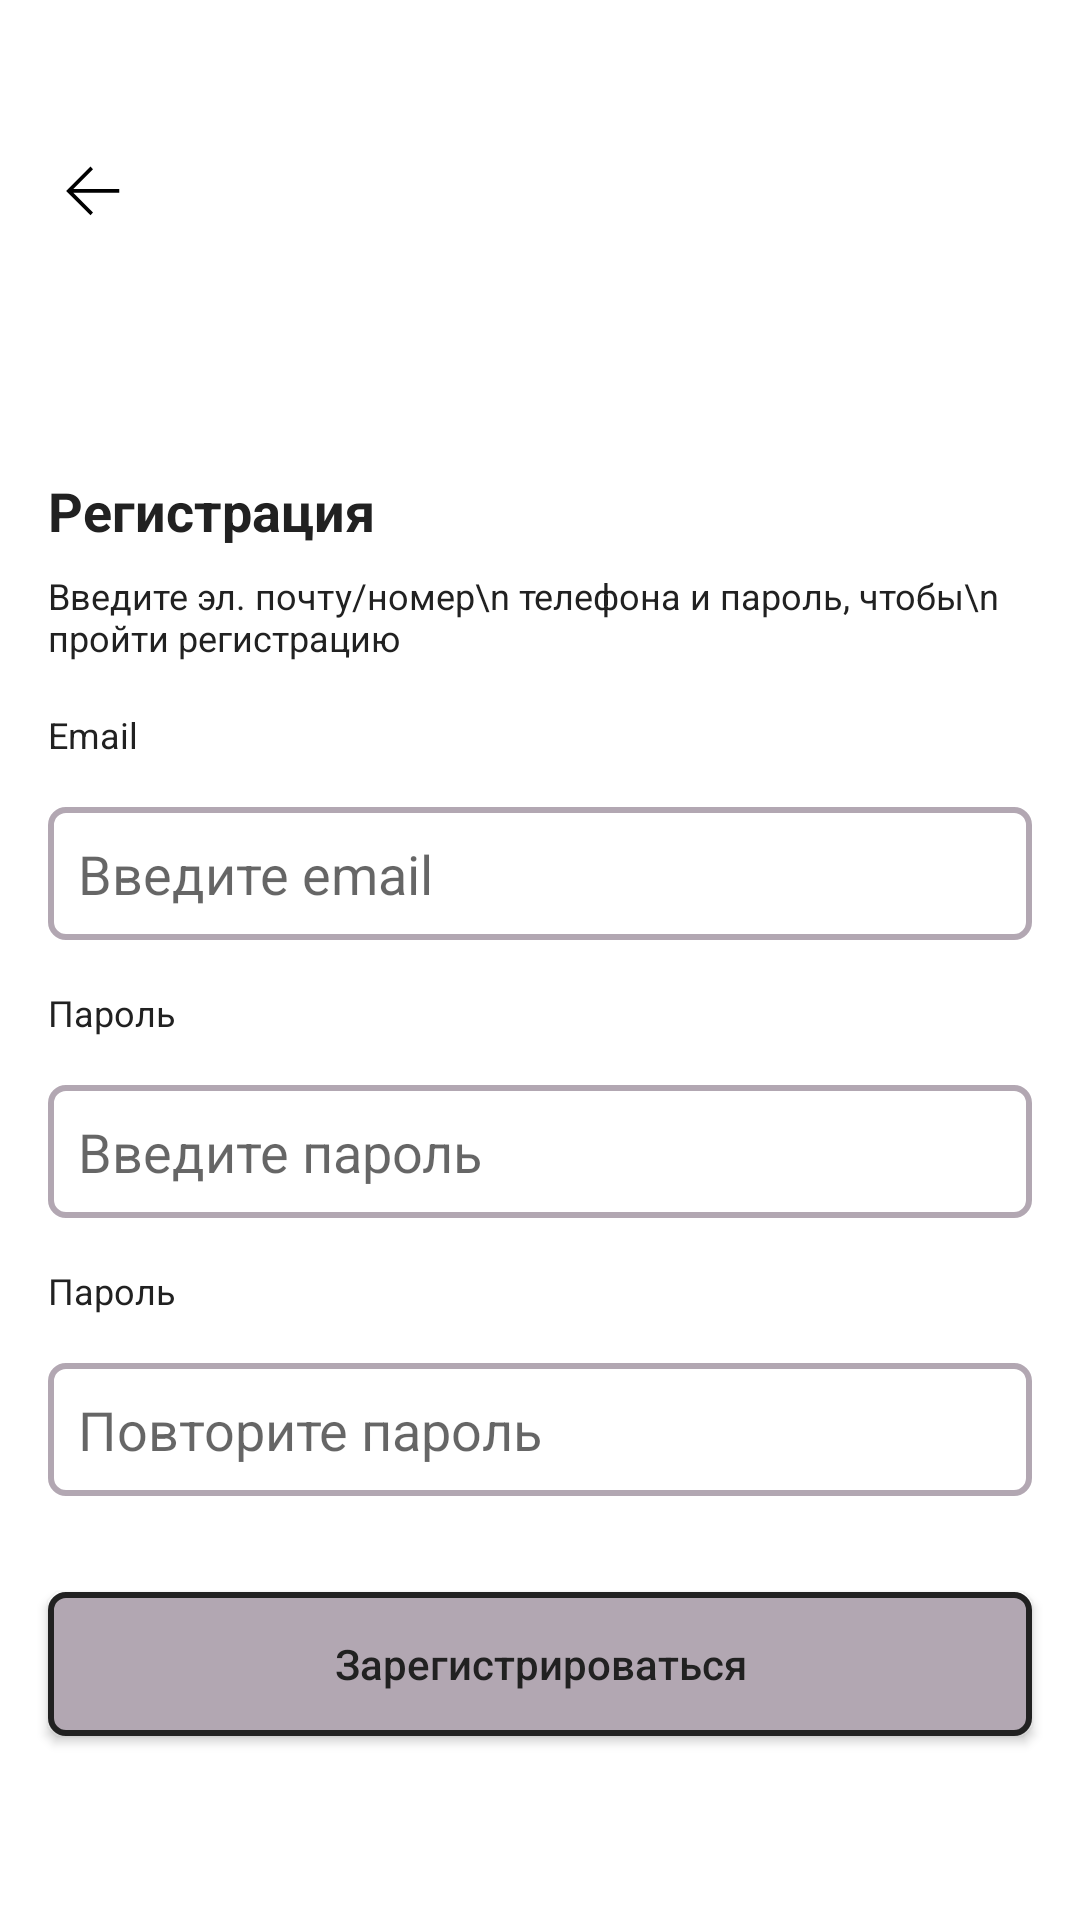

Named icons in this screenshot (1080w x 1920h) and their centers, (x,y):
back: (93,190)
